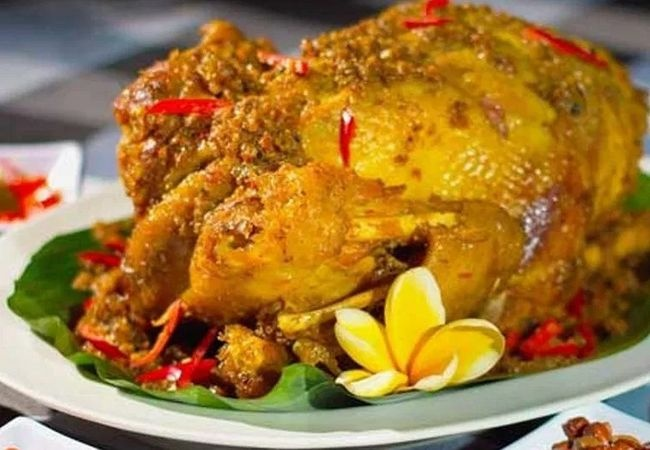ayam_betutu: (115, 1, 650, 267)
